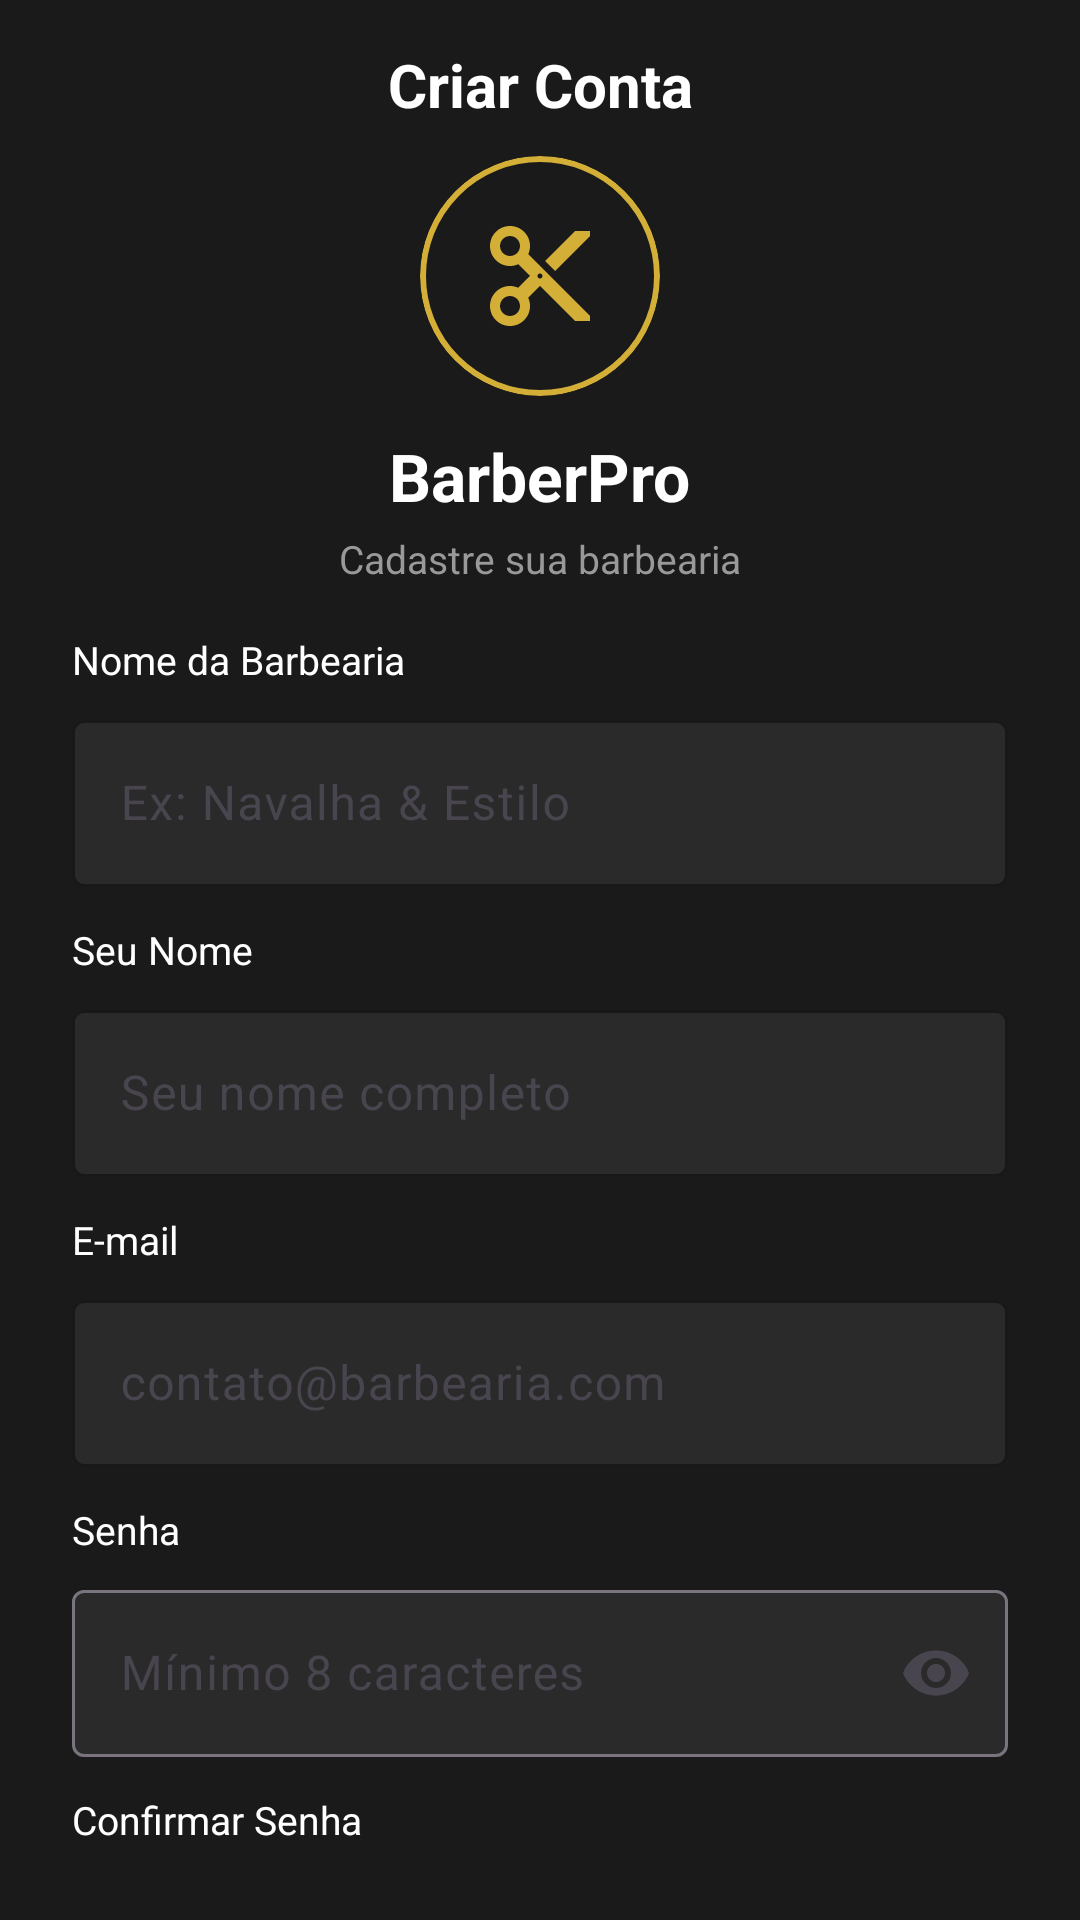

Locate icon controls on the screen. Image size 1080x1920, boxes as (x1, y1, x2, y2).
scissors: (490, 226, 590, 326)
